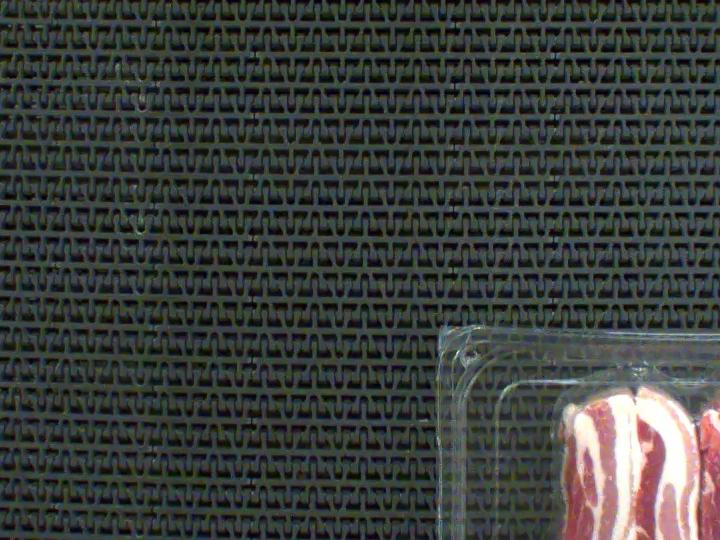unsealed: (503, 361, 720, 540)
